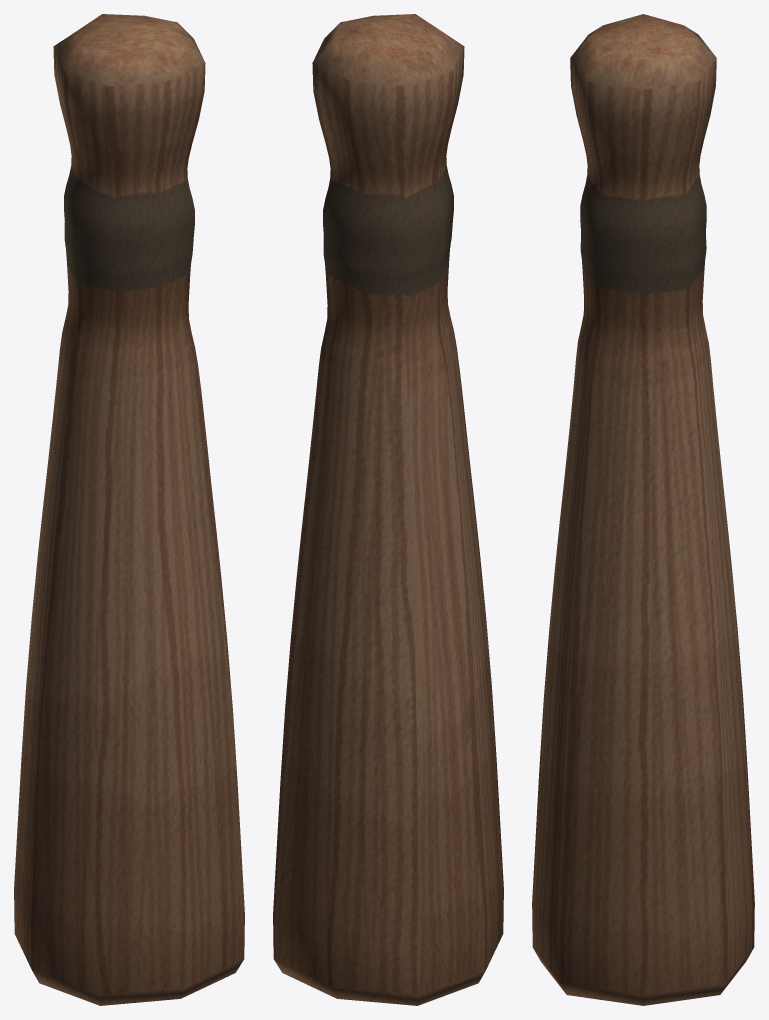
Rendered from broom.fbx.
3 renders of one model, left to right at view 1: azimuth 30°, elevation 25°; view 2: azimuth 150°, elevation 25°; view 3: azimuth 270°, elevation 25°, orthographic.
Visible parts, largest first — view 1: pCube28; view 2: pCube28; view 3: pCube28.
Part boxes in pixels (<box>): pCube28: <box>14,14,244,1005</box>; pCube28: <box>273,14,503,1005</box>; pCube28: <box>532,14,754,1005</box>.
Bounding box in the file's own units: 8.75 × 39.79 × 8.62.
Materials: 1 (1 with a texture image).
